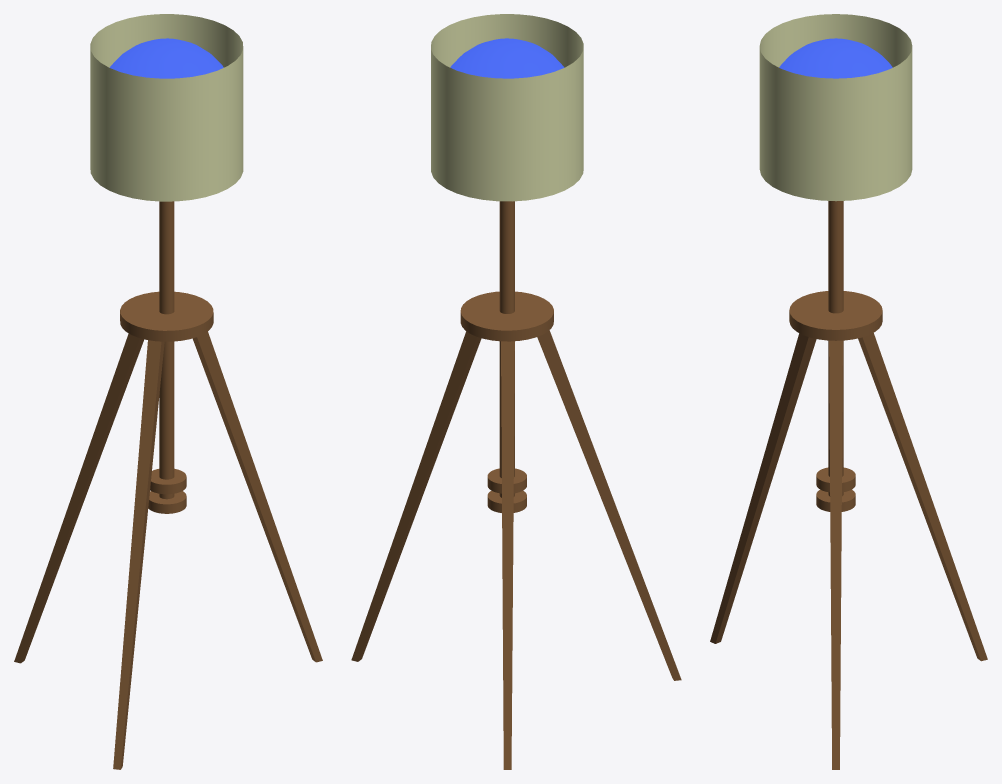
Rendered from lamp_flourishing.glb.
3 renders of one model, left to right at view 1: azimuth 30°, elevation 25°; view 2: azimuth 150°, elevation 25°; view 3: azimuth 270°, elevation 25°, orthographic.
Visible parts, largest first — view 1: Cylinder.004, Cube.003, Cube.002, Cube, Cylinder.001, Cylinder, Sphere, Cylinder.002, Cylinder.003; view 2: Cylinder.004, Cube.002, Cube, Cube.003, Cylinder, Sphere, Cylinder.001, Cylinder.002; view 3: Cylinder.004, Cube, Cube.003, Cube.002, Cylinder, Sphere, Cylinder.001, Cylinder.002, Cylinder.003.
Part boxes in pixels (x1,y1,x2,y2): Cylinder.004: (90, 14, 243, 201); Cube.003: (113, 340, 164, 769); Cube.002: (14, 333, 144, 663); Cube: (192, 331, 322, 662); Cylinder.001: (159, 201, 174, 499); Cylinder: (120, 291, 213, 341); Sphere: (109, 38, 223, 78); Cylinder.002: (150, 468, 186, 494); Cylinder.003: (148, 491, 186, 513); Cylinder.004: (431, 14, 583, 201); Cube.002: (501, 341, 514, 769); Cube: (351, 331, 481, 661); Cube.003: (537, 330, 681, 680); Cylinder: (460, 291, 553, 341); Sphere: (450, 38, 564, 78); Cylinder.001: (499, 201, 514, 497); Cylinder.002: (487, 468, 526, 493); Cylinder.004: (759, 14, 912, 201); Cube: (829, 340, 842, 769); Cube.003: (710, 333, 816, 643); Cube.002: (858, 333, 987, 661); Cylinder: (789, 291, 882, 340); Sphere: (779, 38, 892, 78); Cylinder.001: (828, 201, 843, 496); Cylinder.002: (816, 467, 855, 492); Cylinder.003: (816, 489, 855, 511).
Size of the model in its own units: 5.23 by 12.14 by 4.71.
